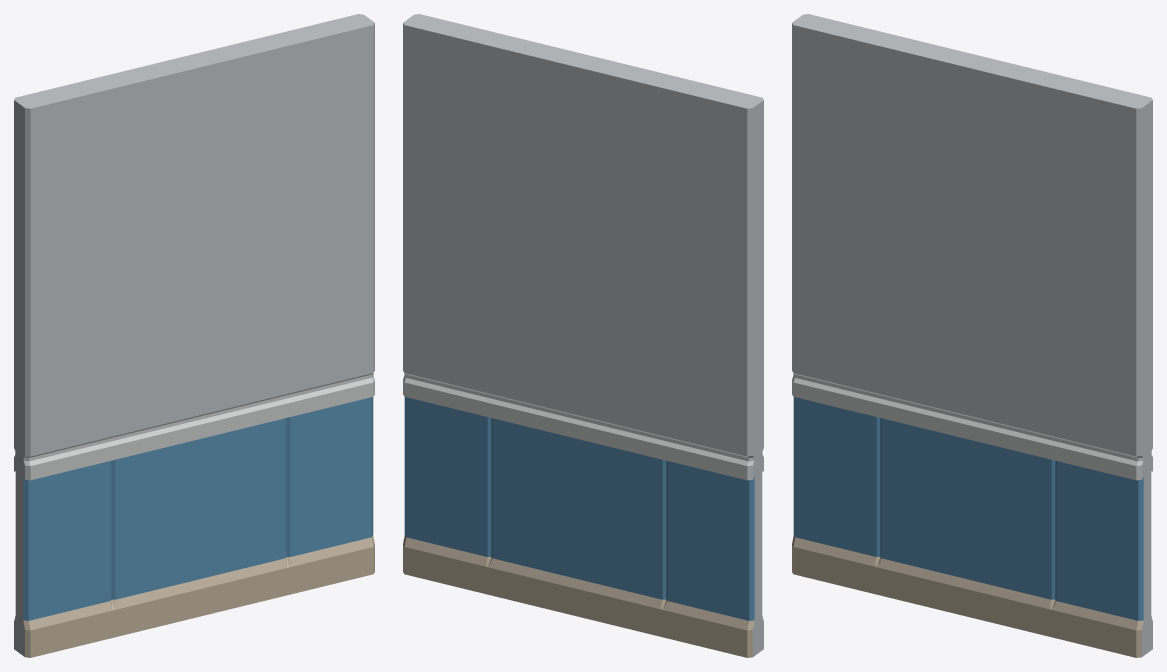
Rendered from clinical-wall-module-935f50.glb.
3 renders of one model, left to right at view 1: azimuth 30°, elevation 25°; view 2: azimuth 150°, elevation 25°; view 3: azimuth 330°, elevation 25°, orthographic.
Parts seen in each view (by area): view 1: clinical-wall-module; view 2: clinical-wall-module; view 3: clinical-wall-module.
Boxes of the visible parts, box(x1,y1,x2,y2) form: clinical-wall-module: box(14, 14, 374, 657); clinical-wall-module: box(403, 14, 763, 657); clinical-wall-module: box(792, 14, 1152, 657).
Size of the model in its own units: 2 by 3 by 0.15.
